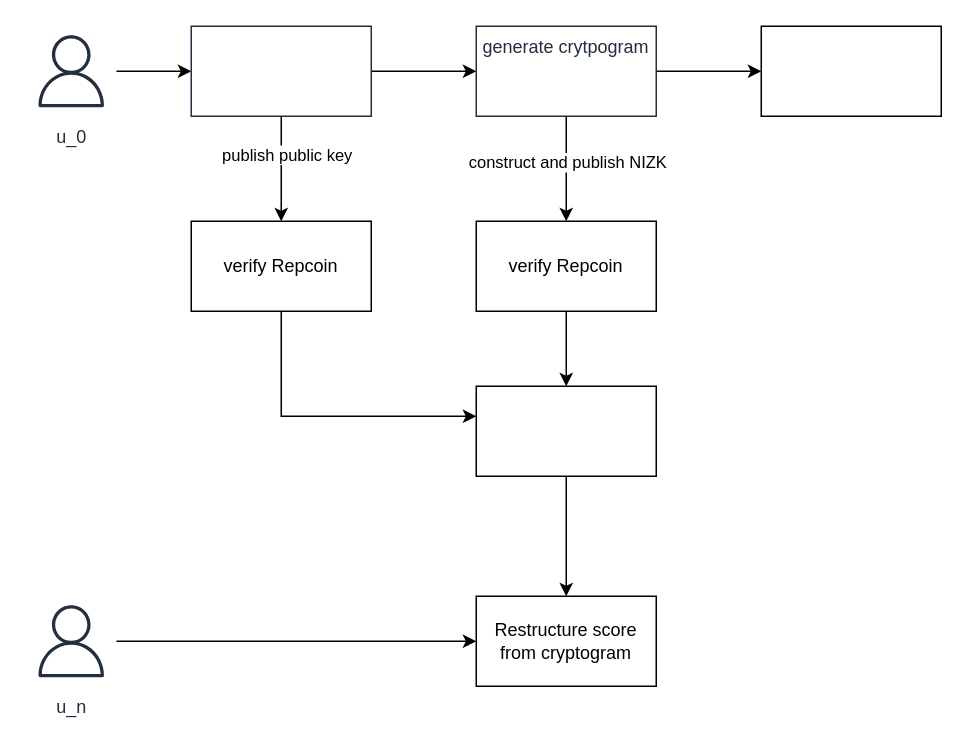
The diagram is 968 pixels wide and 744 high, and some of its shapes have lost their labels. Each missing label, with the centre of its shape:
"BULLETIN BOARD" goes at point (565, 430).
"burn Repcoin" goes at point (850, 70).
"generate public and private keys" goes at point (280, 70).
